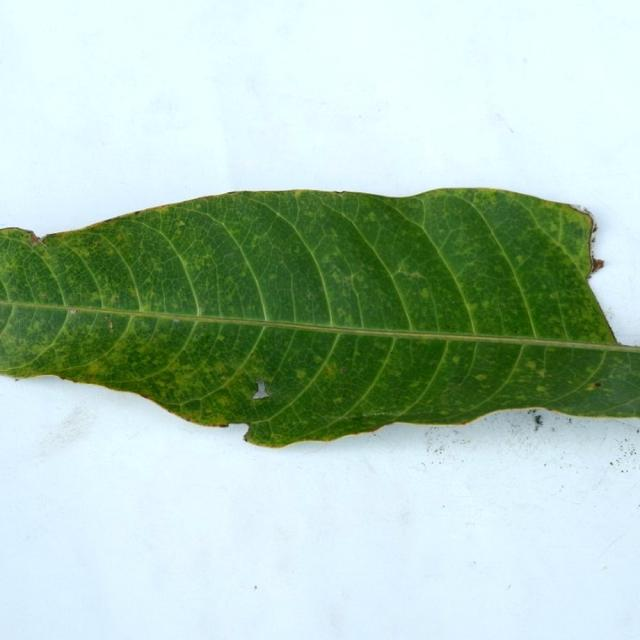Mango: (0, 189, 639, 446)
Powdery_Mildew: (499, 241, 587, 328), (320, 257, 374, 313), (185, 246, 224, 284), (393, 265, 429, 284), (414, 286, 436, 303), (180, 399, 204, 414), (338, 270, 361, 284), (83, 361, 103, 375), (323, 364, 340, 377), (112, 339, 127, 353), (249, 237, 261, 250), (213, 363, 226, 374), (467, 302, 479, 313), (514, 255, 525, 266), (525, 361, 537, 371), (195, 306, 205, 317), (295, 370, 307, 379), (32, 320, 42, 330), (367, 212, 377, 222), (474, 374, 487, 381), (409, 382, 422, 389), (451, 355, 461, 364), (537, 369, 547, 378), (336, 308, 346, 317), (215, 336, 225, 345), (536, 385, 547, 393), (313, 355, 323, 363), (334, 396, 345, 403), (481, 301, 490, 309), (177, 221, 186, 228), (268, 274, 277, 281), (111, 295, 120, 302), (40, 292, 48, 298), (306, 293, 313, 299)
